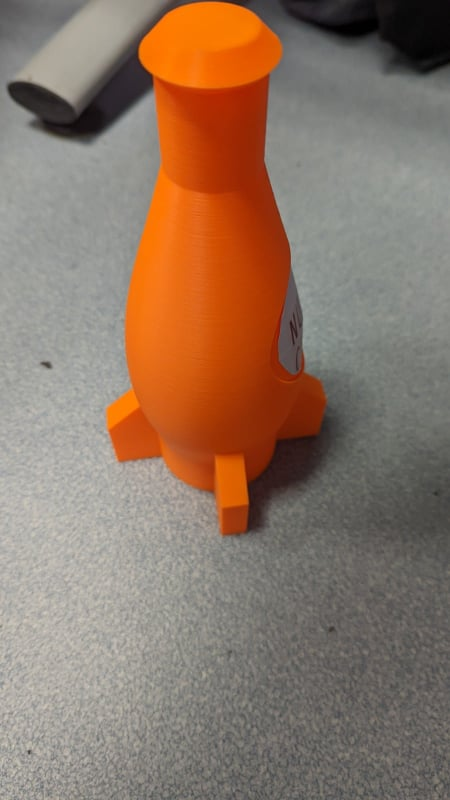bottle: (94, 1, 332, 539)
